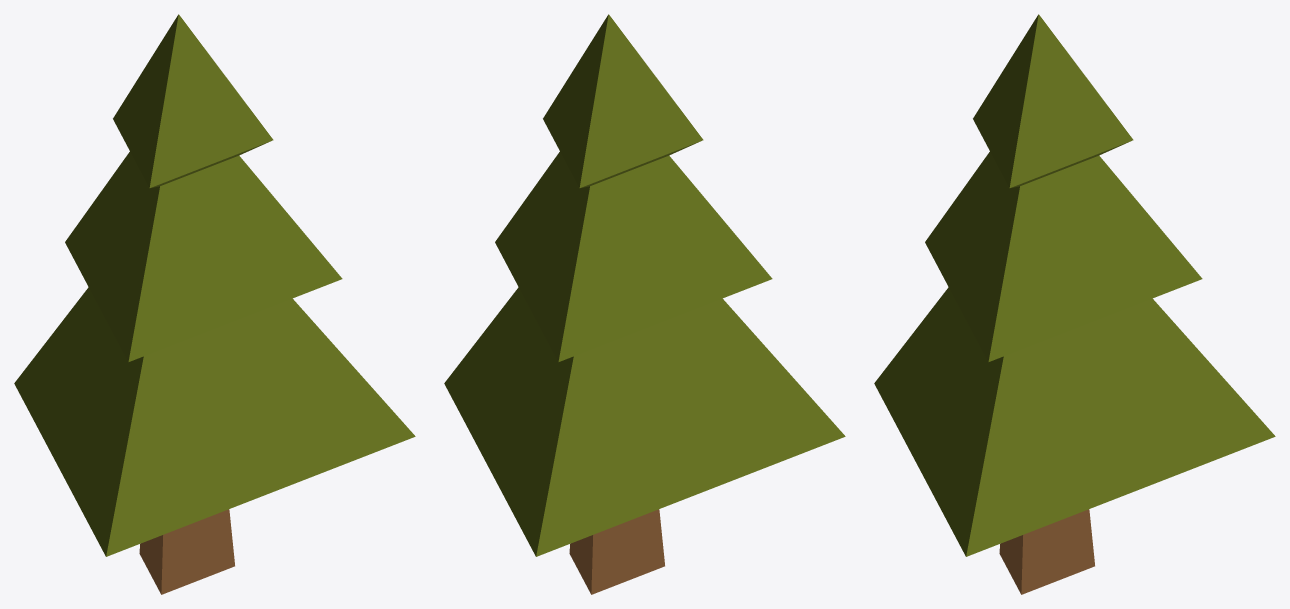
File: Tree3.fbx
The picture shows the model from 3 angles, left to right: view 1: azimuth 30°, elevation 25°; view 2: azimuth 150°, elevation 25°; view 3: azimuth 270°, elevation 25°; orthographic projection.
Visible parts, largest first — view 1: Tree3; view 2: Tree3; view 3: Tree3.
Part boxes in pixels (x1=…): Tree3: x1=14, y1=14, x2=415, y2=594; Tree3: x1=444, y1=14, x2=845, y2=594; Tree3: x1=874, y1=14, x2=1275, y2=594.
Bounding box in the file's own units: 44.92 × 67.29 × 43.93.
